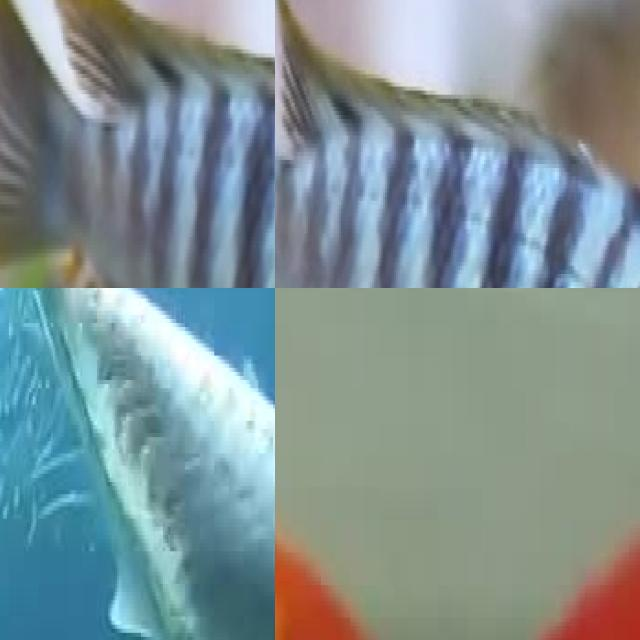fish: (0, 0, 275, 288), (499, 361, 640, 640)
